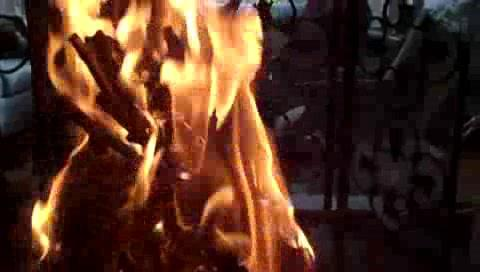fire: (52, 2, 267, 267)
